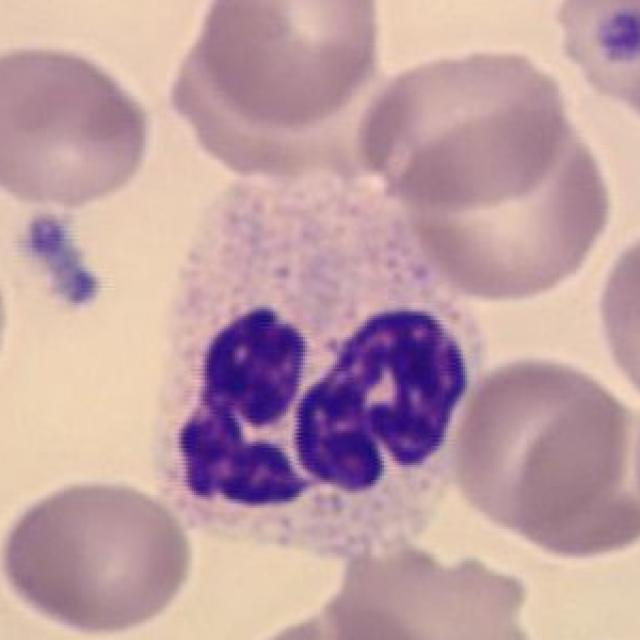WBC: (143, 154, 499, 550)
